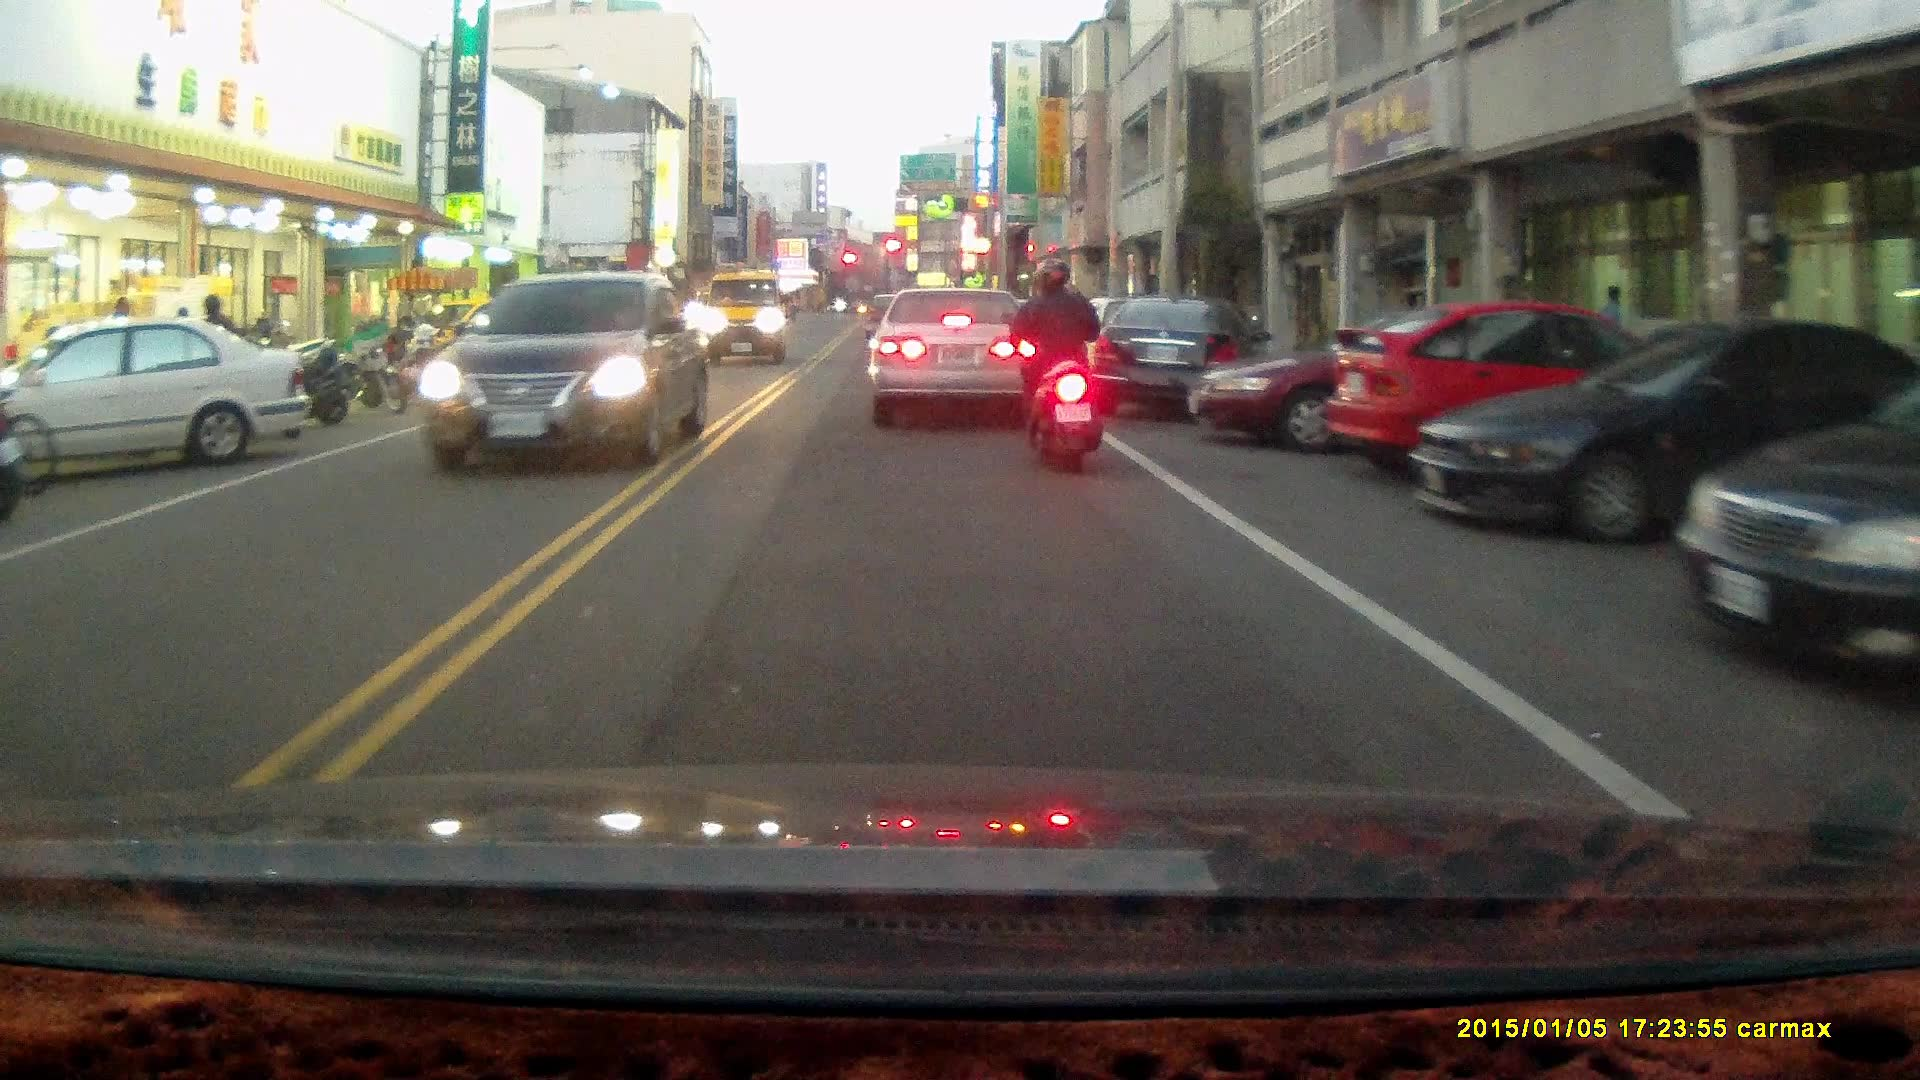rider: (1002, 255, 1112, 474)
vehicle: (1410, 317, 1888, 547), (1664, 346, 1920, 687), (1323, 298, 1714, 483), (418, 269, 709, 474), (1182, 319, 1595, 455), (1, 319, 316, 476), (866, 286, 1042, 420), (1084, 294, 1243, 420), (699, 271, 788, 366)
